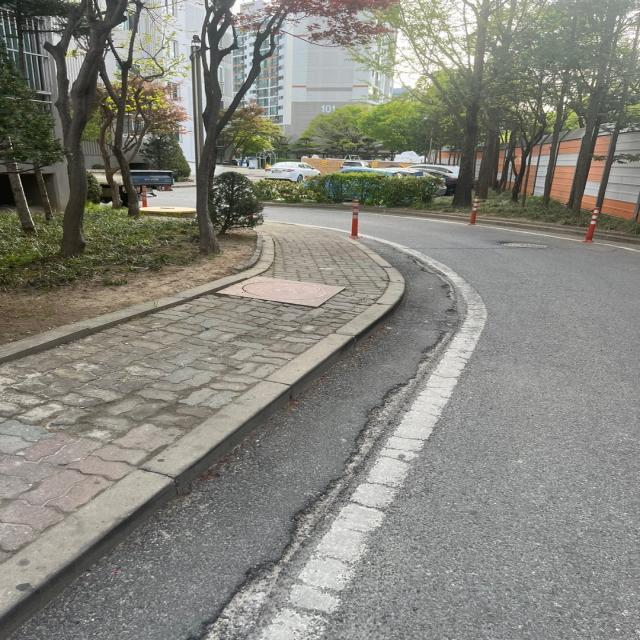manhole: (219, 276, 344, 307)
